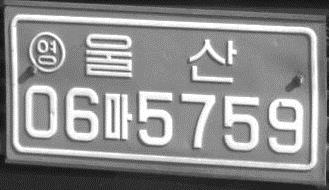0: (23, 83, 59, 139)
5: (222, 94, 261, 151), (137, 89, 174, 148)
6: (64, 85, 100, 141)
7: (179, 91, 216, 150)
9: (267, 97, 305, 154)
마: (103, 91, 133, 141)
영: (27, 30, 66, 73)
울산_D: (82, 31, 239, 85)
